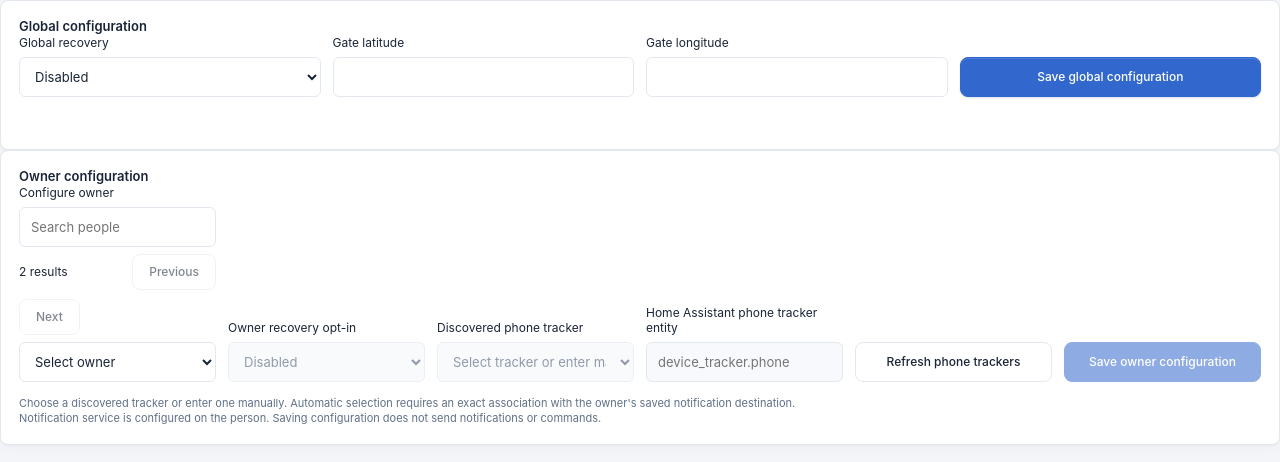
Test: keeps manual selection when association is ambiguous
The image size is (1280, 462).
Select "Synthetic A" in the dropdown named "Configure owner": (118, 362) [19, 342, 216, 382]
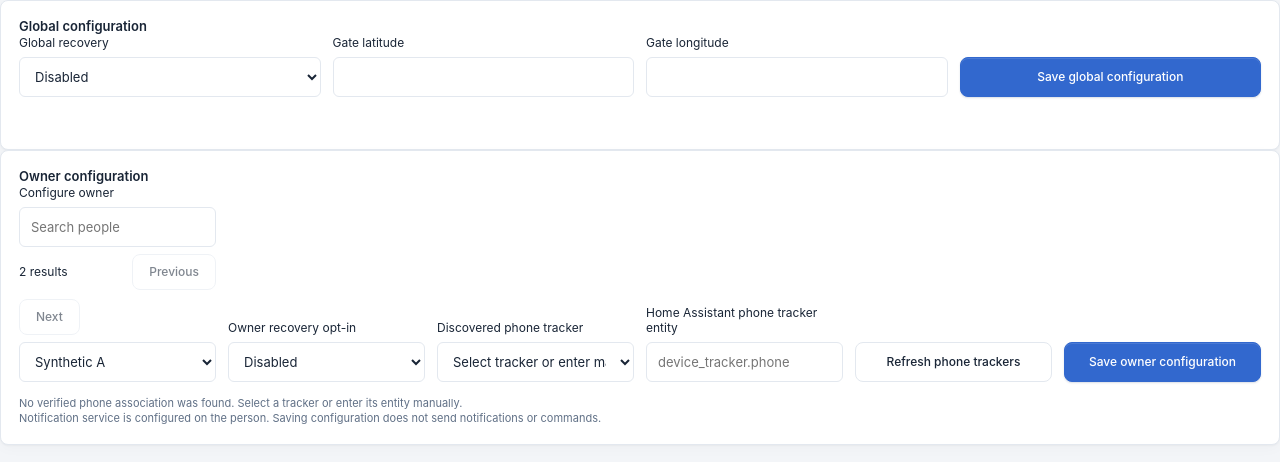
Check: the field labelled "Home Assistant phone tracker entity" is empty, box [646, 342, 843, 382]
Select "Synthetic iPhone · device_tracker.renamed_iphone" in the dropdown labelled "Discovered phone tracker": (536, 362) [437, 342, 634, 382]
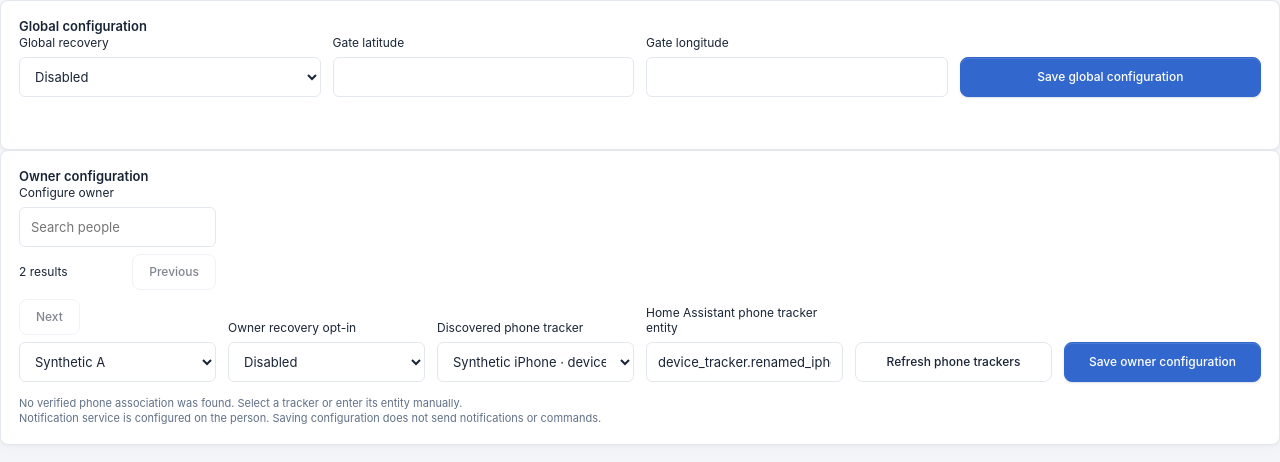
Check: the dropdown labelled "Owner recovery opt-in" shows "Disabled", box [228, 342, 425, 382]
Check: the field labelled "Home Assistant phone tracker entity" holds "device_tracker.renamed_iphone", box [646, 342, 843, 382]
